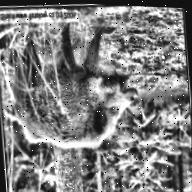boar: (12, 19, 175, 181)
